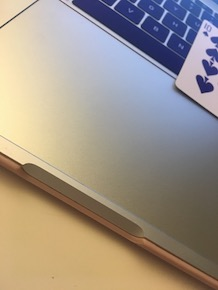TenOfSpades: (168, 17, 218, 122)
